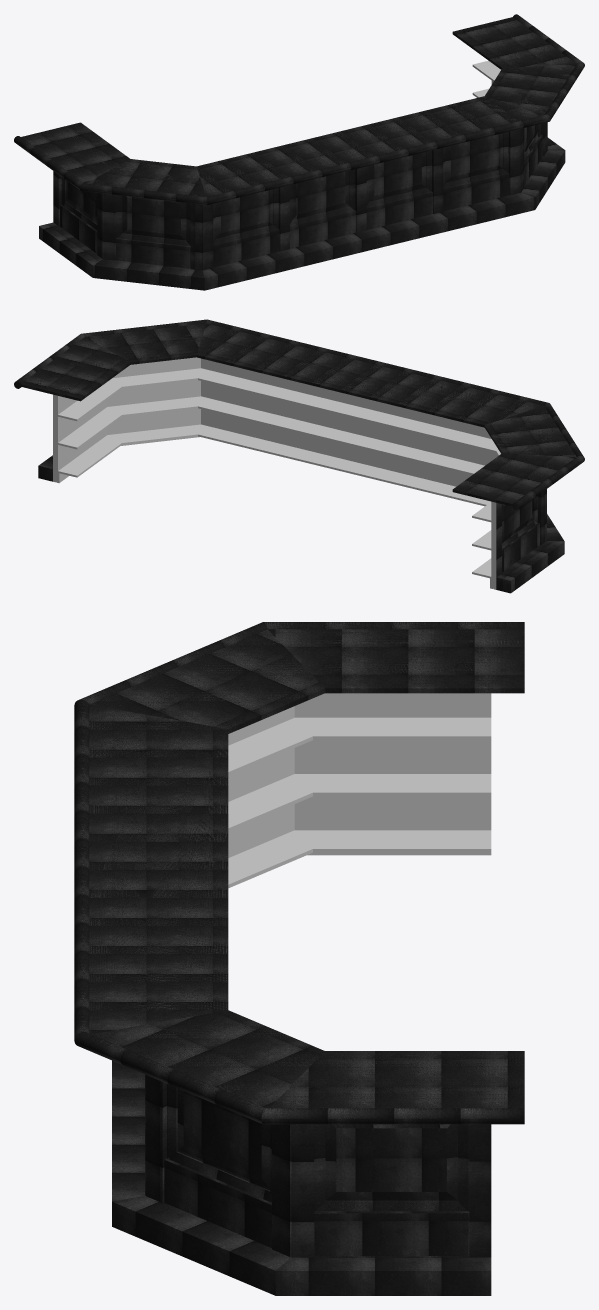
Rendered from Barra.obj.
3 renders of one model, top to bottom at view 1: azimuth 30°, elevation 25°; view 2: azimuth 150°, elevation 25°; view 3: azimuth 270°, elevation 25°, orthographic. The views are drawn at different scales.
Parts seen in each view (by area): view 1: SketchUp.002_ID29, SketchUp.001_ID16, SketchUp.003_ID37; view 2: SketchUp.003_ID37, SketchUp.001_ID16, SketchUp.002_ID29; view 3: SketchUp.001_ID16, SketchUp.002_ID29, SketchUp.003_ID37.
Boxes of the visible parts, x1,y1,x2,y2 form: SketchUp.002_ID29: (39, 122, 565, 290); SketchUp.001_ID16: (14, 14, 584, 205); SketchUp.003_ID37: (472, 60, 500, 97); SketchUp.003_ID37: (53, 357, 500, 589); SketchUp.001_ID16: (14, 319, 584, 510); SketchUp.002_ID29: (38, 455, 564, 593); SketchUp.001_ID16: (74, 622, 524, 1124); SketchUp.002_ID29: (112, 1060, 491, 1295); SketchUp.003_ID37: (228, 693, 491, 888).
Size of the model in its own units: 5.36 by 1.01 by 2.07.
